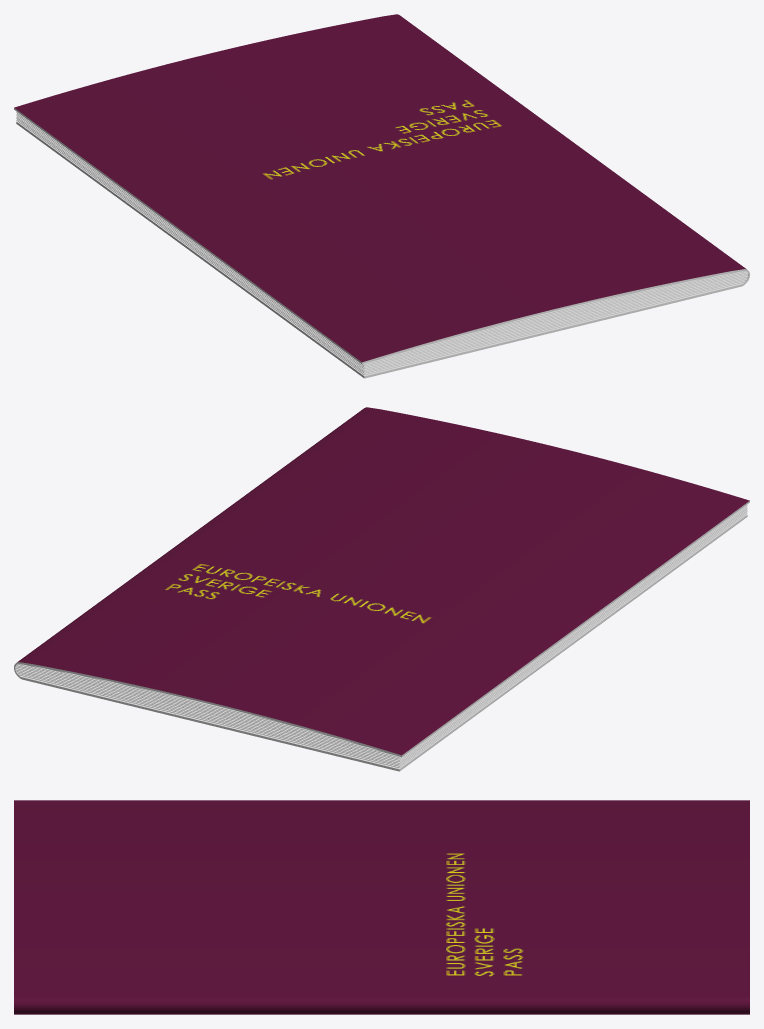
The model's file is id-pass.fbx.
The picture shows the model from 3 angles, top to bottom: view 1: azimuth 30°, elevation 25°; view 2: azimuth 150°, elevation 25°; view 3: azimuth 270°, elevation 25°; orthographic projection. The views are drawn at different scales.
Visible parts, largest first — view 1: pCube17; view 2: pCube17; view 3: pCube17.
Boxes of the visible parts, bbox=[...] form: pCube17: bbox=[14, 14, 749, 378]; pCube17: bbox=[14, 407, 749, 771]; pCube17: bbox=[14, 800, 749, 1014].
Size of the model in its own units: 0.6296 by 0.0359 by 0.9785.
